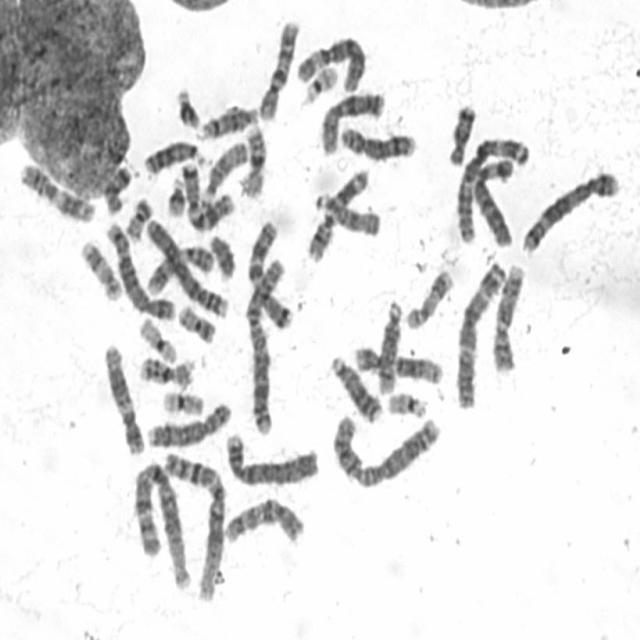A1: (158, 445, 230, 602), (129, 454, 193, 592)
A2: (328, 405, 444, 489), (244, 249, 288, 436)
A3: (450, 130, 531, 247), (451, 254, 509, 411)
B4: (141, 210, 231, 320), (221, 425, 322, 488)
B5: (517, 164, 622, 256), (100, 214, 176, 322)
C10: (254, 12, 302, 122), (219, 491, 307, 547)
C11: (303, 161, 372, 263), (16, 156, 98, 225)
C12: (100, 337, 147, 457), (348, 339, 444, 385)
C6: (290, 27, 366, 94), (468, 148, 518, 249)
C7: (243, 212, 294, 332), (177, 155, 234, 232)
C8: (143, 394, 235, 449), (337, 119, 418, 161)
C9: (488, 257, 528, 376), (141, 238, 215, 297)
D13: (326, 348, 384, 424), (140, 132, 211, 178)
D14: (372, 292, 405, 398), (195, 98, 261, 140)
D15: (197, 134, 250, 206), (313, 186, 382, 238)
E16: (236, 117, 269, 199), (134, 350, 196, 388)
E17: (401, 262, 455, 332), (76, 234, 124, 303)
E18: (443, 96, 478, 168), (98, 157, 134, 216)
F19: (134, 310, 179, 365), (156, 383, 207, 418)
F20: (174, 297, 218, 345), (121, 191, 154, 243)
G21: (171, 80, 203, 131), (162, 168, 188, 219)
G22: (298, 59, 339, 104), (383, 385, 429, 419)
X: (316, 84, 387, 156)
Y: (205, 228, 238, 282)
